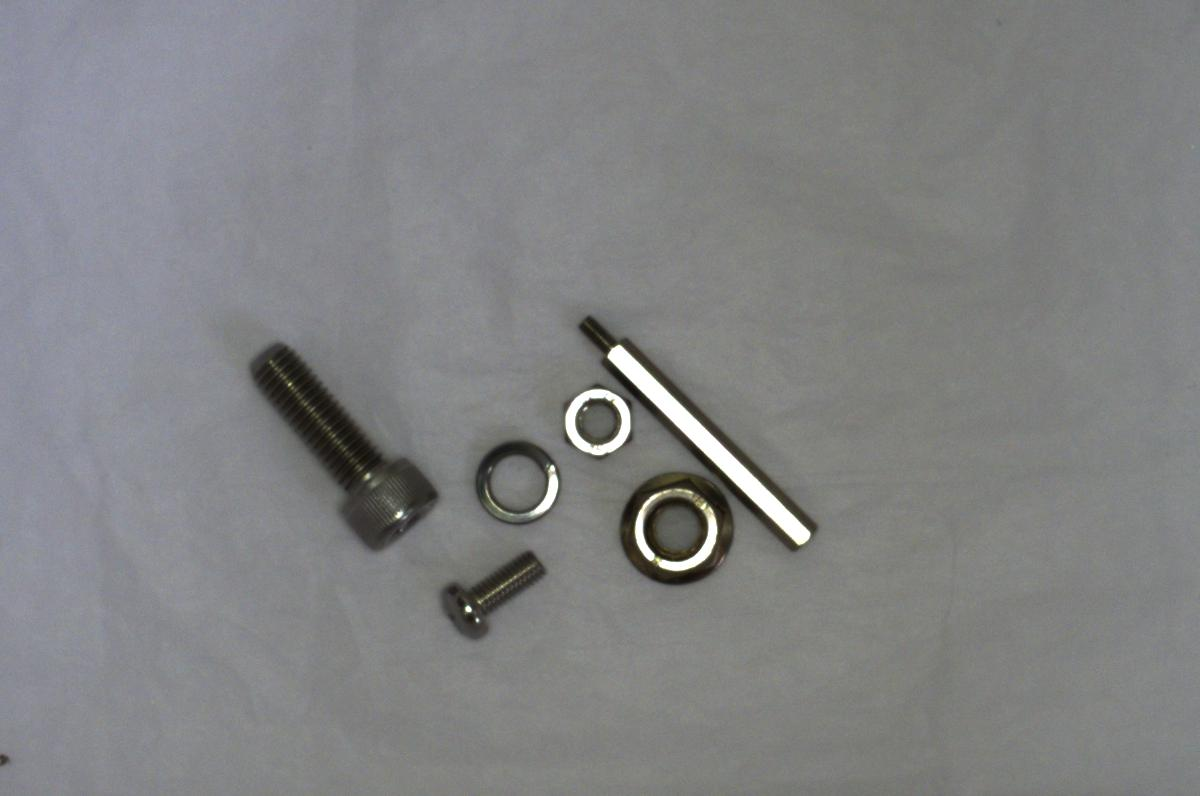Flange nut: (601, 462, 744, 593)
Hexagon nut: (557, 379, 635, 458)
Hexagon screw: (233, 341, 445, 549)
Hexagonal steel column: (568, 312, 820, 553)
Round head screw: (430, 545, 552, 638)
Spring washer: (459, 432, 564, 526)
